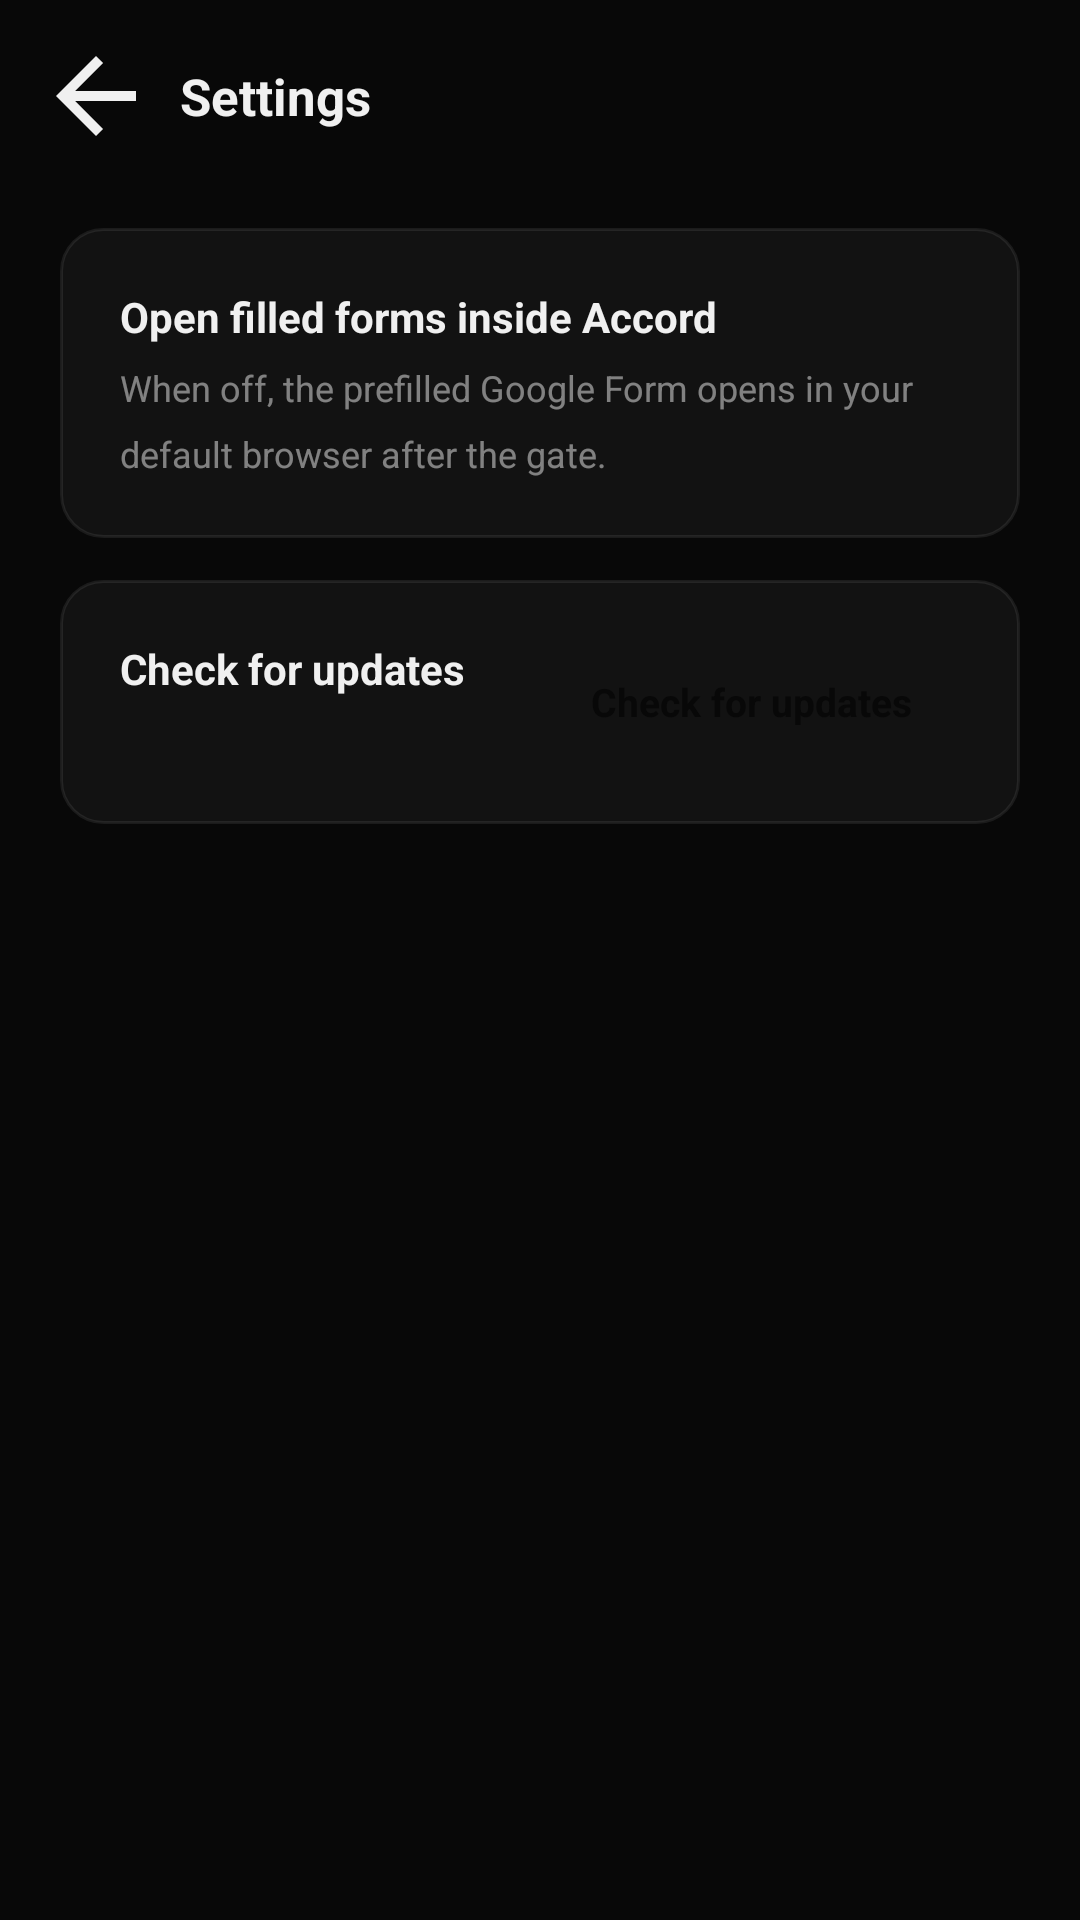

Icon bounding boxes for this 1080 x 1920 phone screenshot, format (x1, y1, x2, y2):
Back: (56, 56, 136, 136)
